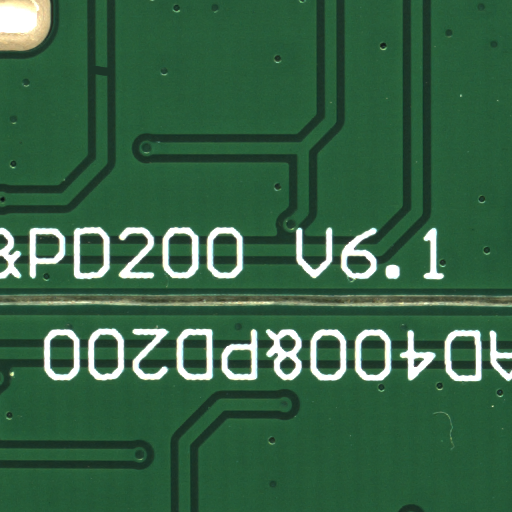Open_circuit: (101, 71, 116, 82)
